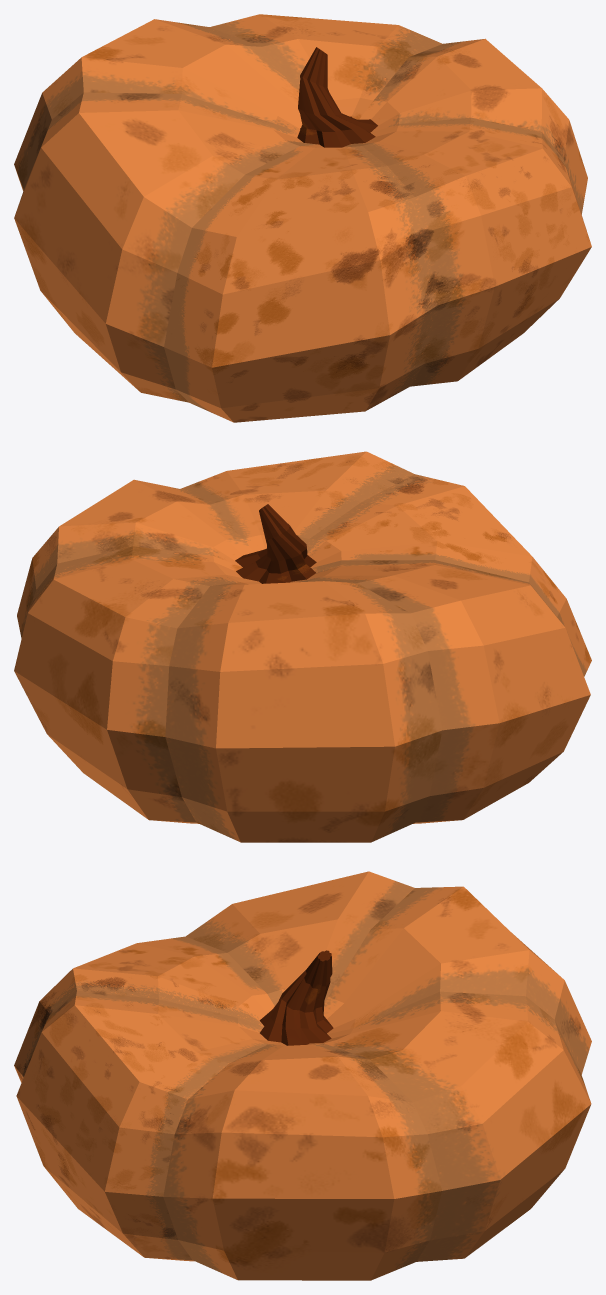
Rendered from Pumpkin008.fbx.
The picture shows the model from 3 angles, top to bottom: view 1: azimuth 30°, elevation 25°; view 2: azimuth 150°, elevation 25°; view 3: azimuth 270°, elevation 25°; orthographic projection.
Visible parts, largest first — view 1: Pumpkin008; view 2: Pumpkin008; view 3: Pumpkin008.
Boxes of the visible parts, box(x1,y1,x2,y2) form: Pumpkin008: box(14, 14, 591, 422); Pumpkin008: box(14, 451, 591, 842); Pumpkin008: box(14, 871, 591, 1280).
Size of the model in its own units: 117 by 64.57 by 119.
